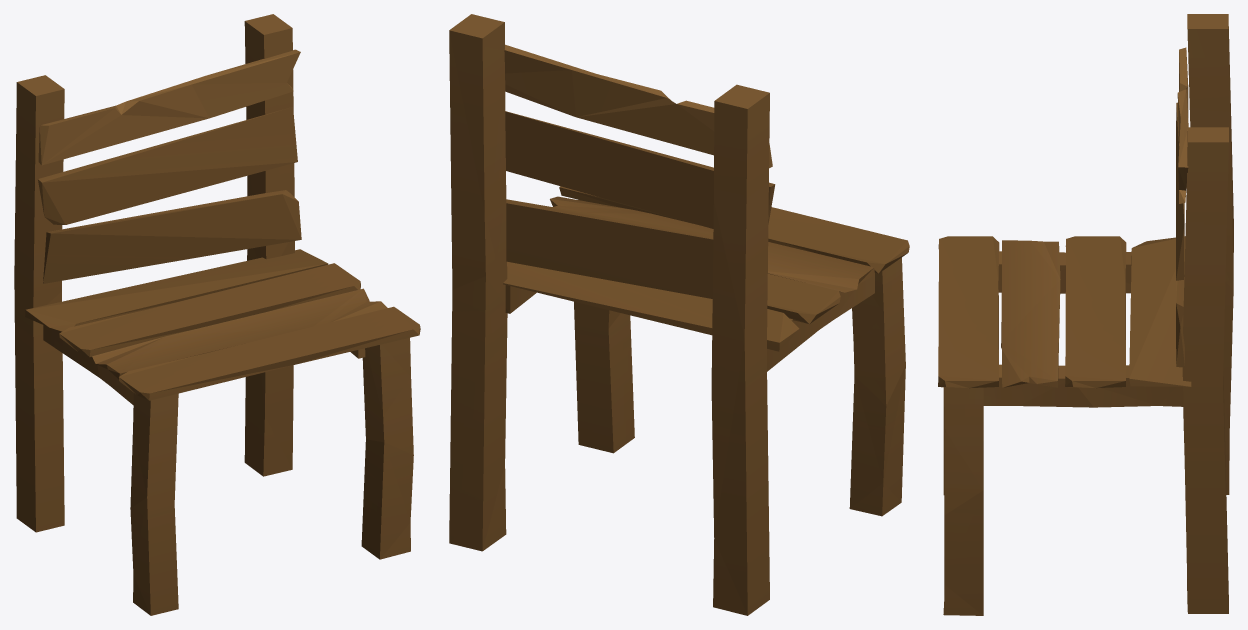
File: Chair.fbx
3 views of the same model, side by side, from view 1: azimuth 30°, elevation 25°; view 2: azimuth 150°, elevation 25°; view 3: azimuth 270°, elevation 25° (orthographic). The views are drawn at different scales.
Parts seen in each view (by area): view 1: Chair; view 2: Chair; view 3: Chair.
Boxes of the visible parts, x1,y1,x2,y2 form: Chair: (14,14,420,615); Chair: (449,14,909,615); Chair: (938,14,1233,615).
Bounding box in the file's own units: 53.75 × 80.71 × 45.86.
